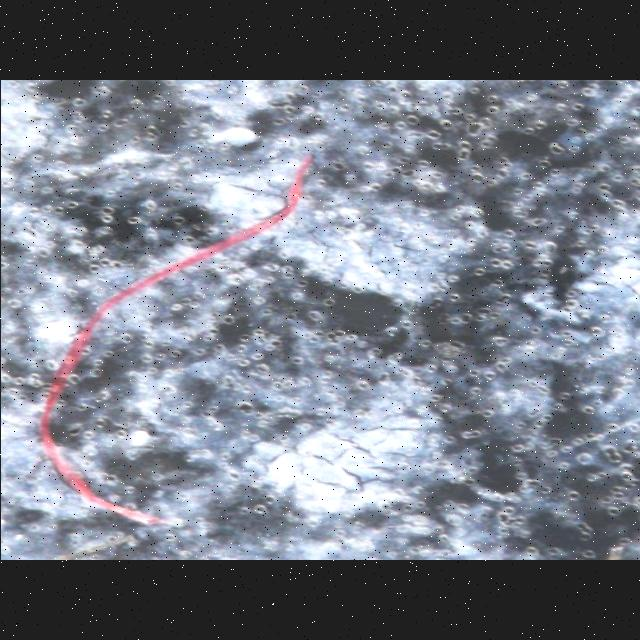Fibre: (35, 154, 318, 526)
